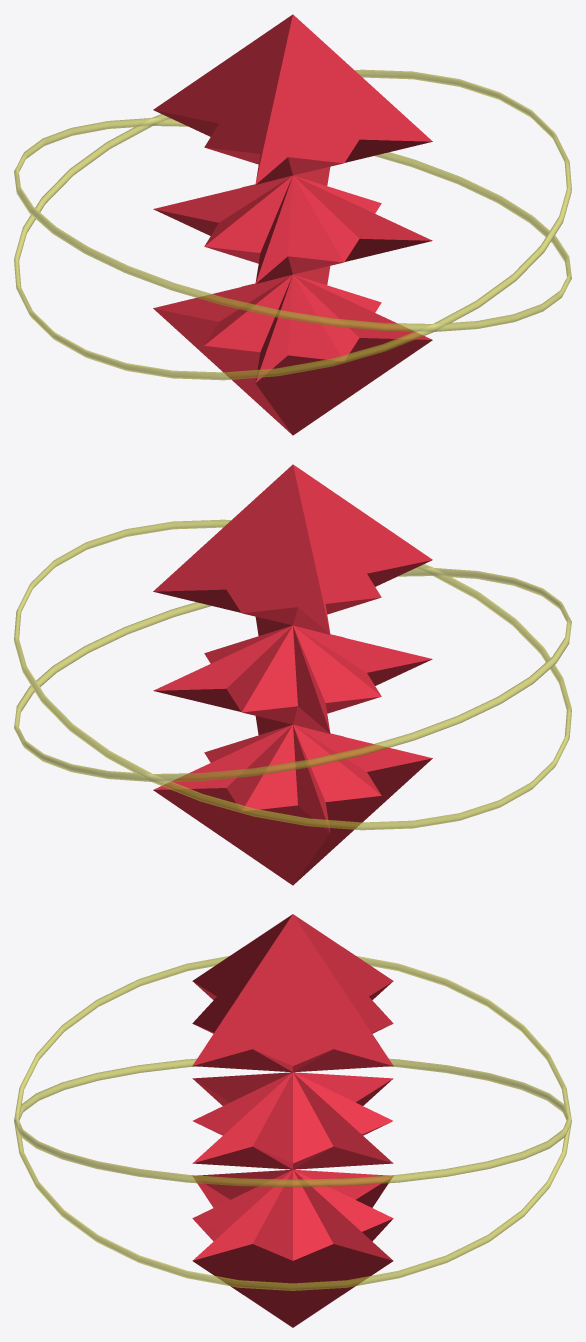
File: Totem.fbx
3 views of the same model, one above another, from view 1: azimuth 30°, elevation 25°; view 2: azimuth 150°, elevation 25°; view 3: azimuth 270°, elevation 25° (orthographic).
Visible parts, largest first — view 1: 立方体, 円; view 2: 立方体, 円; view 3: 立方体, 円.
Part boxes in pixels (x1=…): 立方体: x1=153, y1=14, x2=432, y2=435; 円: x1=14, y1=69, x2=571, y2=380; 立方体: x1=153, y1=464, x2=432, y2=885; 円: x1=14, y1=519, x2=571, y2=830; 立方体: x1=192, y1=914, x2=393, y2=1327; 円: x1=14, y1=956, x2=571, y2=1290.
Bounding box in the file's own units: 146 × 122 × 149.
